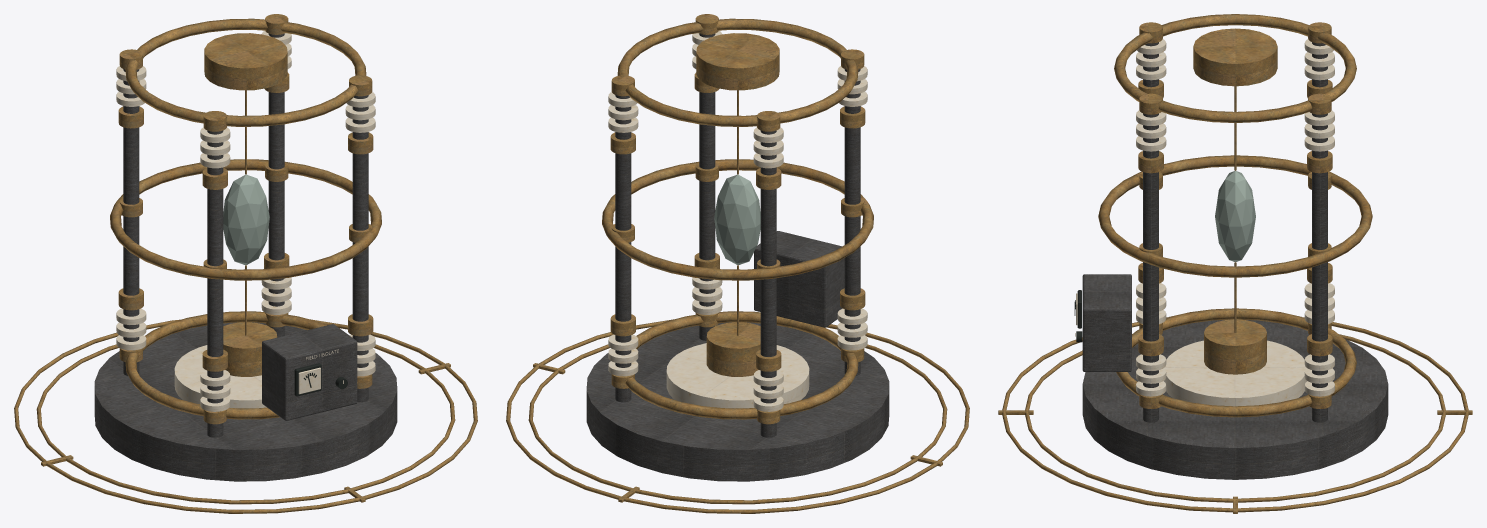
The model's file is resonance_apparatus.glb.
The picture shows the model from 3 angles, left to right: view 1: azimuth 30°, elevation 25°; view 2: azimuth 150°, elevation 25°; view 3: azimuth 270°, elevation 25°; orthographic projection.
Parts seen in each view (by area): view 1: Blackened instrument steel, Aged brass conductors, Ceramic isolators, Suspended resonant specimen, Rubber and printed legends; view 2: Blackened instrument steel, Aged brass conductors, Ceramic isolators, Suspended resonant specimen; view 3: Aged brass conductors, Blackened instrument steel, Ceramic isolators, Suspended resonant specimen.
Boxes of the visible parts, x1,y1,x2,y2 form: Blackened instrument steel: (94,33,397,481); Aged brass conductors: (14,14,477,513); Ceramic isolators: (116,30,375,411); Suspended resonant specimen: (223,174,269,265); Rubber and printed legends: (294,363,347,396); Blackened instrument steel: (586,33,889,481); Aged brass conductors: (506,14,969,513); Ceramic isolators: (608,30,867,411); Suspended resonant specimen: (714,174,760,265); Aged brass conductors: (998,14,1472,513); Blackened instrument steel: (1082,42,1388,479); Ceramic isolators: (1075,39,1334,406); Suspended resonant specimen: (1215,170,1255,262).
Size of the model in its own units: 2.7 by 2.32 by 2.7.
Materials: 5 (3 with a texture image).
